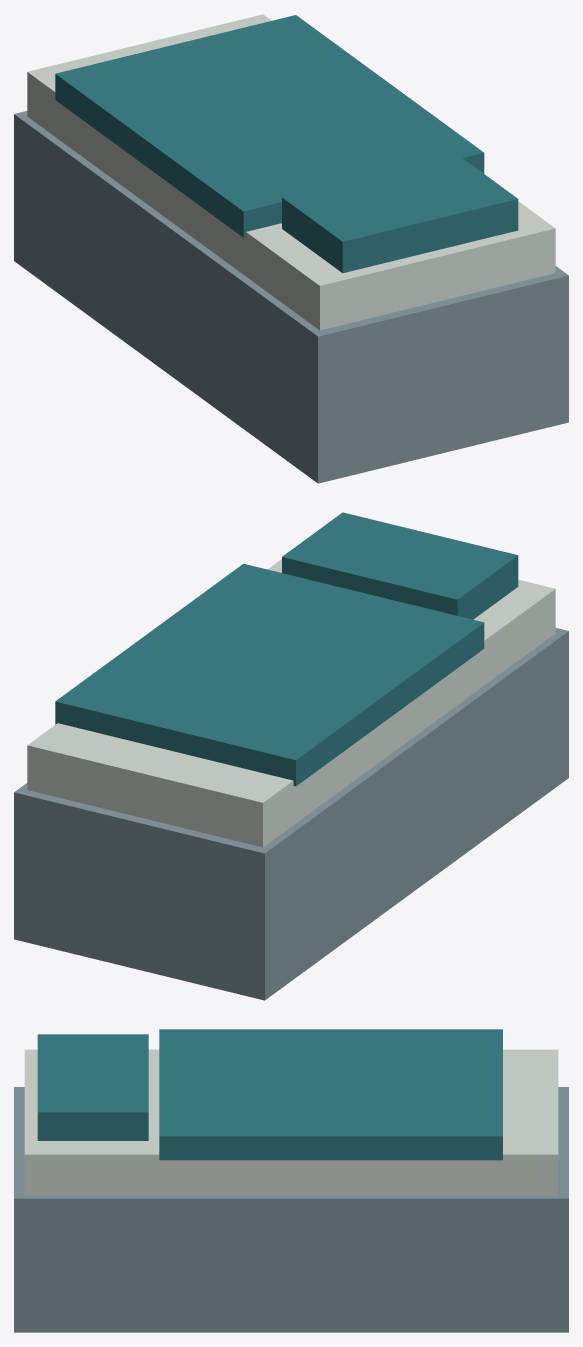
File: Interior_Bed.glb
The picture shows the model from 3 angles, top to bottom: view 1: azimuth 30°, elevation 25°; view 2: azimuth 150°, elevation 25°; view 3: azimuth 270°, elevation 25°; orthographic projection. The views are drawn at different scales.
Visible parts, largest first — view 1: Interior_Bed; view 2: Interior_Bed; view 3: Interior_Bed.
Boxes of the visible parts, x1,y1,x2,y2 form: Interior_Bed: (14, 14, 568, 483); Interior_Bed: (14, 512, 568, 1000); Interior_Bed: (14, 1029, 568, 1332).
Bounding box in the file's own units: 1 × 0.85 × 2.1.
